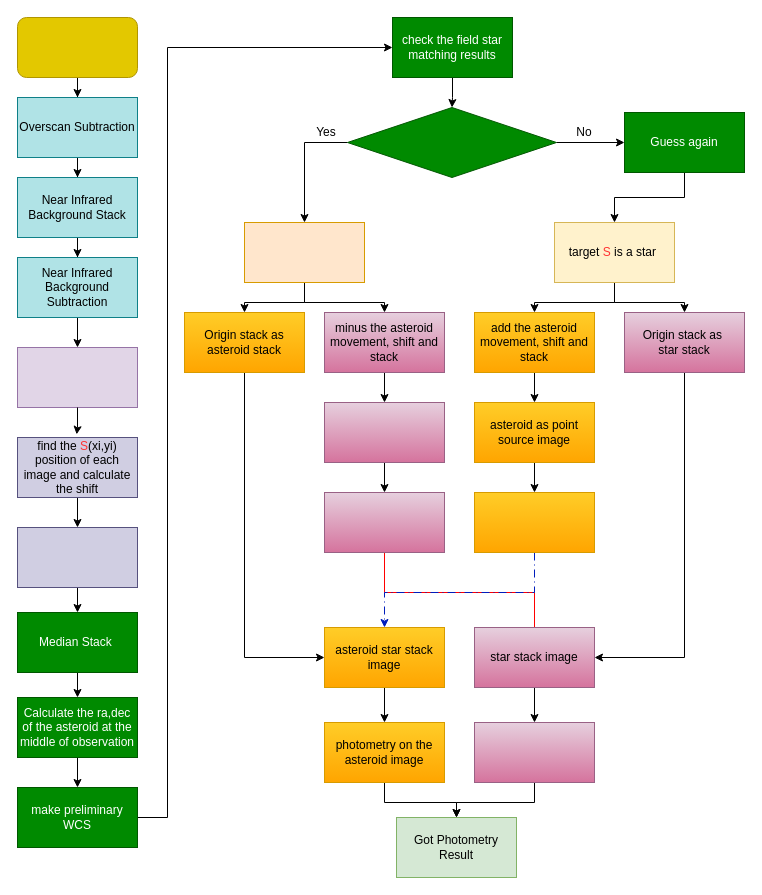
Image size: 762x895. Some labels were removed from this diagram. The box of each missing label's shape, as (x1, y1, x2, y2) in pixels:
field star matched 2MASS catalogue: (346, 106, 556, 178)
Find the brightest point source S (x0,y0): (16, 346, 138, 408)
Got the asteroid stack image: (474, 492, 594, 552)
Got the star stack image: (324, 492, 444, 552)
photometry and calculate the zero point: (474, 722, 594, 782)
RAW Data: (16, 16, 138, 78)
Shift the images: (16, 526, 138, 588)
star as point source image: (324, 402, 444, 462)
target S is asteroid: (244, 222, 364, 282)
